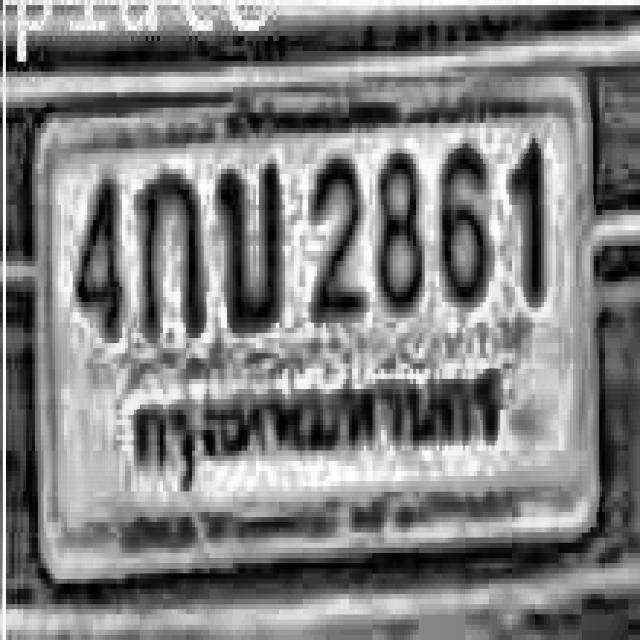license-plate: (30, 55, 607, 584)
